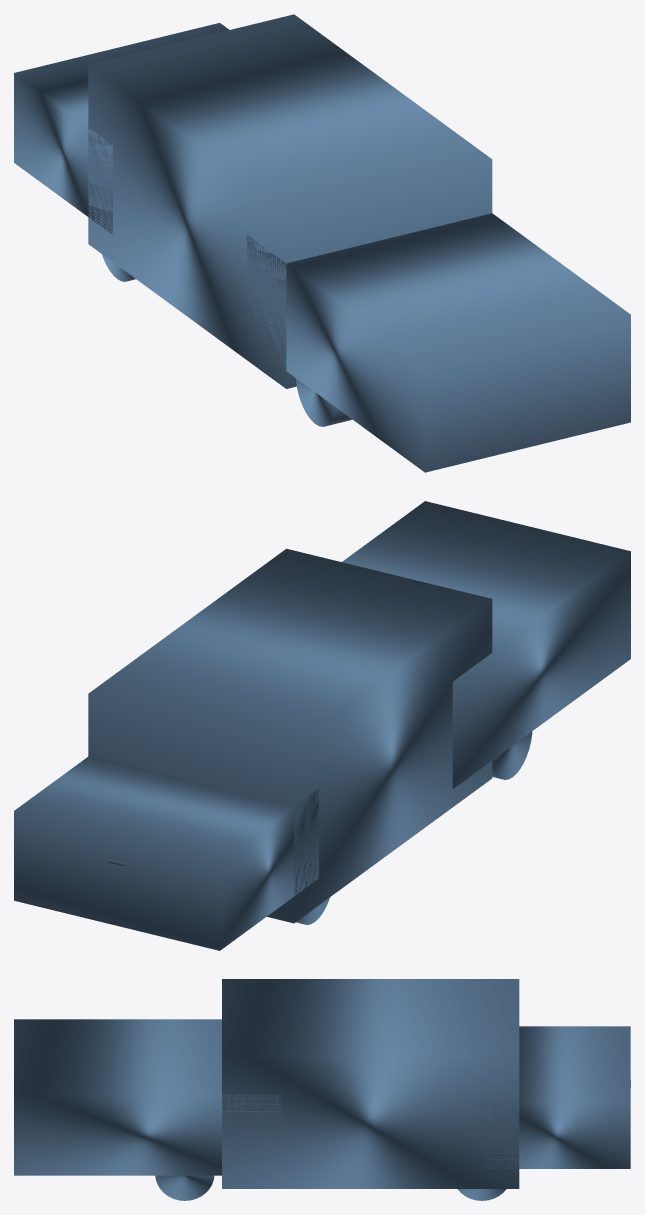
Rendered from ford_lightning_base.glb.
3 renders of one model, top to bottom at view 1: azimuth 30°, elevation 25°; view 2: azimuth 150°, elevation 25°; view 3: azimuth 270°, elevation 25°, orthographic. The views are drawn at different scales.
Parts seen in each view (by area): view 1: Ford_Lightning_Base; view 2: Ford_Lightning_Base; view 3: Ford_Lightning_Base.
Boxes of the visible parts, x1=… form: Ford_Lightning_Base: x1=14, y1=14, x2=630, y2=472; Ford_Lightning_Base: x1=14, y1=501, x2=630, y2=950; Ford_Lightning_Base: x1=14, y1=979, x2=630, y2=1200.
Bounding box in the file's own units: 2.4 × 2.2 × 8.31.
